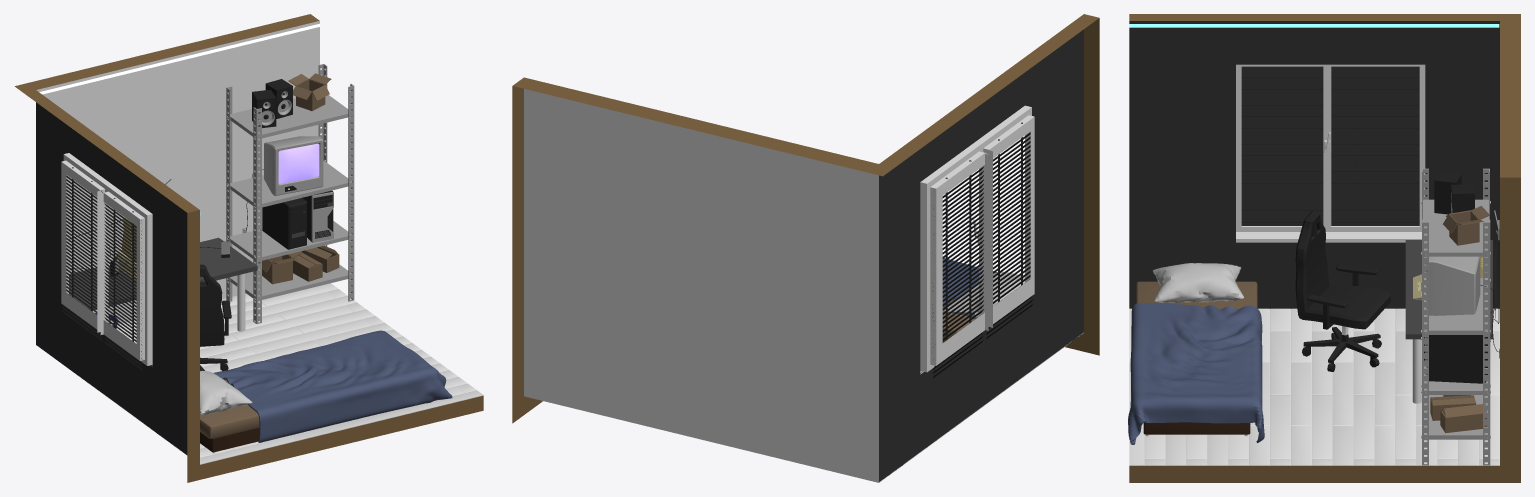
File: RoomWithComputer.glb
3 views of the same model, side by side, from view 1: azimuth 30°, elevation 25°; view 2: azimuth 150°, elevation 25°; view 3: azimuth 270°, elevation 25° (orthographic). The views are drawn at different scales.
Visible parts, largest first — view 1: walls, bed, floor, shelving, blinds, tv, boxes, table, chair, pc2, speakers2, pc3 (+1 smaller); view 2: walls, blinds, bed; view 3: walls, floor, blinds, bed, shelving, chair, tv, boxes, pc3, table, speakers2.
Part boxes in pixels (box(x1,y1,x2,y2)): walls: box(14, 14, 483, 482); bed: box(200, 330, 452, 453); floor: box(80, 283, 483, 464); shelving: box(226, 64, 354, 323); blinds: box(62, 167, 142, 370); tv: box(264, 136, 323, 195); boxes: box(258, 73, 339, 284); table: box(69, 237, 257, 331); chair: box(200, 264, 231, 370); pc2: box(262, 198, 306, 249); speakers2: box(252, 79, 292, 127); pc3: box(302, 190, 333, 242); walls: box(512, 14, 1099, 482); blinds: box(932, 122, 1033, 377); bed: box(942, 258, 1024, 342); walls: box(1129, 14, 1520, 482); floor: box(1129, 308, 1499, 465); blinds: box(1241, 66, 1419, 225); bed: box(1128, 263, 1264, 444); shelving: box(1421, 168, 1490, 465); chair: box(1295, 210, 1390, 371); tv: box(1426, 256, 1480, 315); boxes: box(1430, 206, 1489, 433); pc3: box(1424, 335, 1487, 383); table: box(1405, 240, 1492, 403); speakers2: box(1434, 171, 1474, 214).
Bounding box in the file's own units: 2.1 × 1.82 × 2.12.
